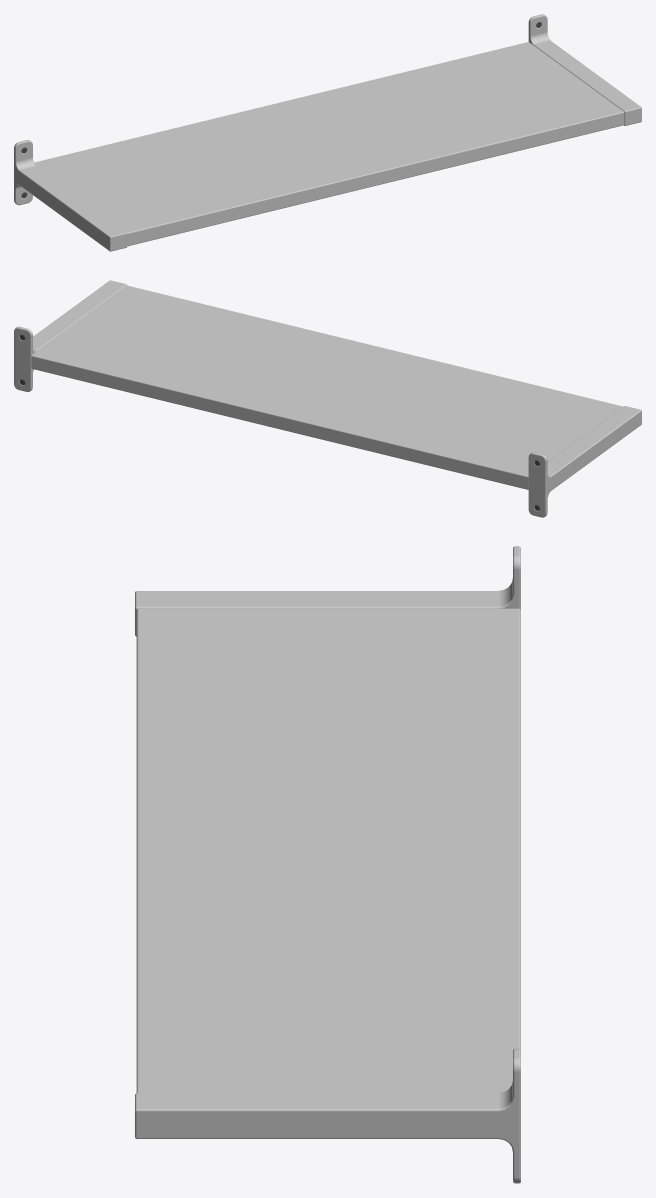
The model's file is shelf.fbx.
The picture shows the model from 3 angles, top to bottom: view 1: azimuth 30°, elevation 25°; view 2: azimuth 150°, elevation 25°; view 3: azimuth 270°, elevation 25°; orthographic projection. The views are drawn at different scales.
Parts seen in each view (by area): view 1: shelving_unit_3; view 2: shelving_unit_3; view 3: shelving_unit_3.
Boxes of the visible parts, <box> form: shelving_unit_3: <box>14,14,641,251</box>; shelving_unit_3: <box>14,280,641,517</box>; shelving_unit_3: <box>135,546,520,1183</box>.
Bounding box in the file's own units: 85.57 × 9.58 × 26.87.
